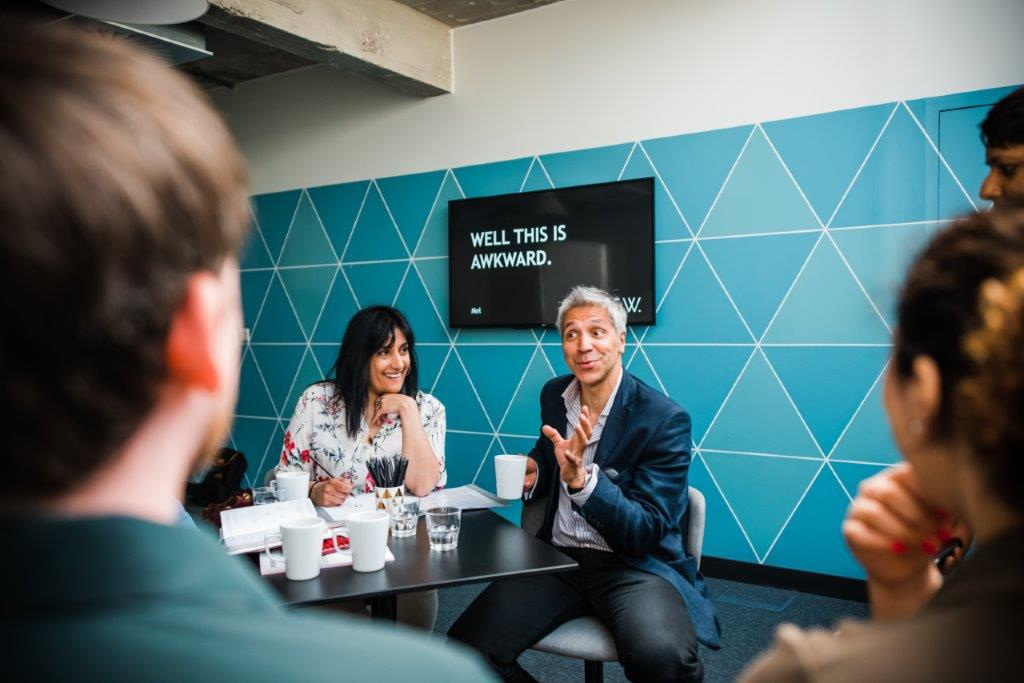bad: (557, 315, 619, 377), (371, 343, 415, 386)
